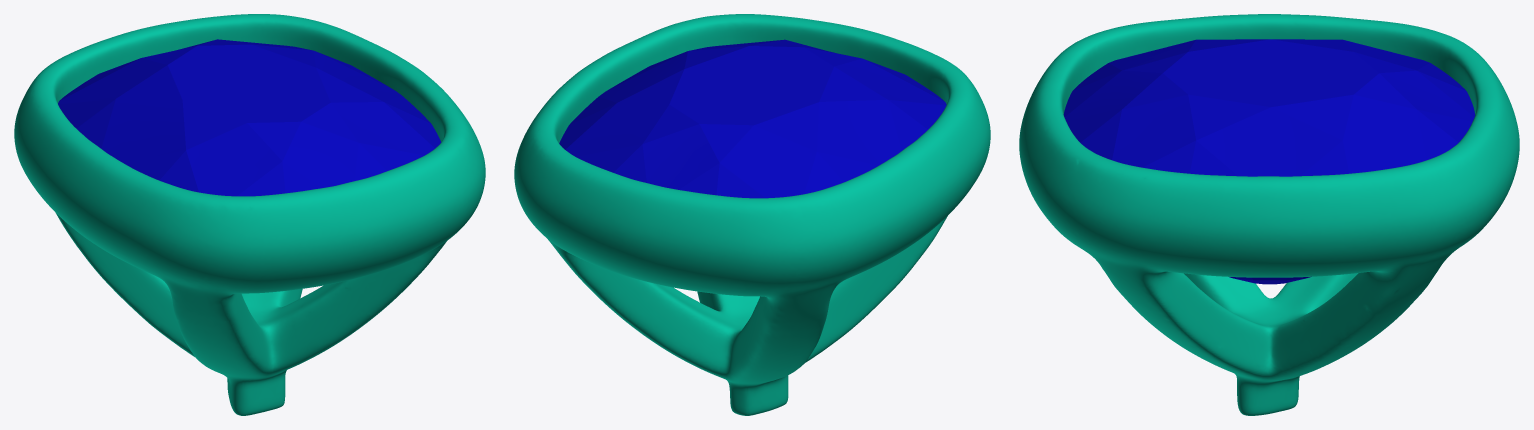
The model's file is Cushion.glb.
3 renders of one model, left to right at view 1: azimuth 30°, elevation 25°; view 2: azimuth 150°, elevation 25°; view 3: azimuth 270°, elevation 25°, orthographic. The views are drawn at different scales.
Parts seen in each view (by area): view 1: /GSMOD388300- BEZEL_Cushion_IJ.3dm, Diamond_Cushion; view 2: /GSMOD388300- BEZEL_Cushion_IJ.3dm, Diamond_Cushion; view 3: /GSMOD388300- BEZEL_Cushion_IJ.3dm, Diamond_Cushion.
Boxes of the visible parts, left/top/right/bottom form: /GSMOD388300- BEZEL_Cushion_IJ.3dm: left=14, top=14, right=485, bottom=415; Diamond_Cushion: left=58, top=39, right=441, bottom=196; /GSMOD388300- BEZEL_Cushion_IJ.3dm: left=514, top=14, right=990, bottom=415; Diamond_Cushion: left=559, top=39, right=946, bottom=198; /GSMOD388300- BEZEL_Cushion_IJ.3dm: left=1019, top=14, right=1519, bottom=415; Diamond_Cushion: left=1063, top=39, right=1475, bottom=284.
Size of the model in its own units: 7.58 by 6.22 by 8.47.
